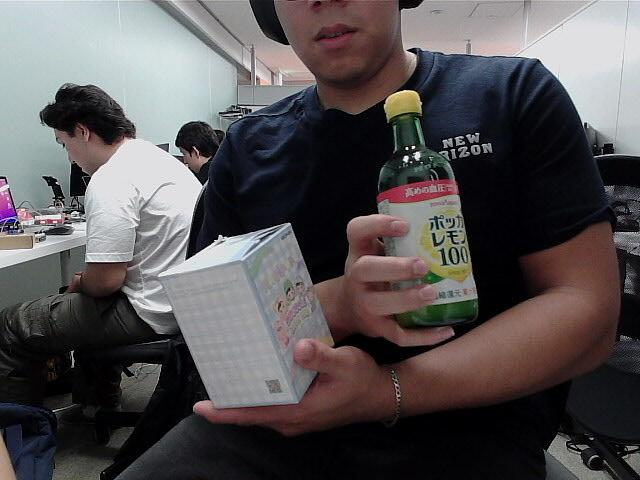Blind_box: (163, 227, 340, 410)
Lemon_sapporo: (366, 80, 492, 338)
